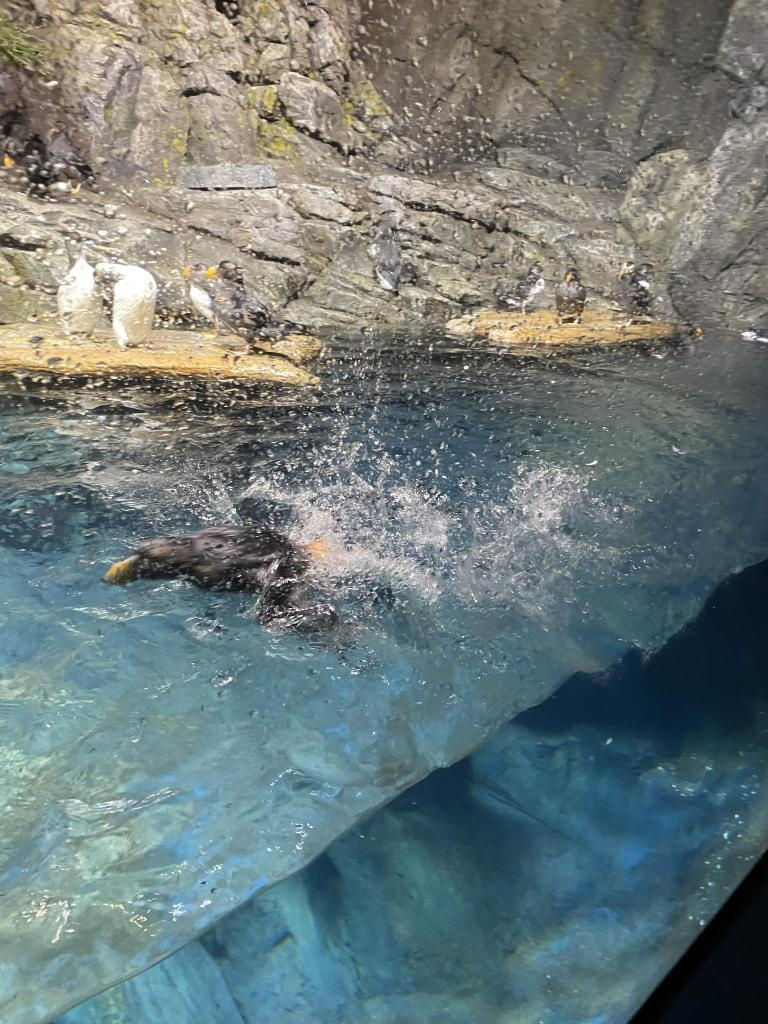puffin: (102, 517, 344, 643), (206, 256, 310, 356), (96, 260, 158, 348), (58, 254, 106, 340), (615, 258, 663, 328), (48, 123, 98, 189), (496, 260, 550, 316), (367, 226, 411, 294), (6, 137, 54, 199), (634, 322, 702, 360), (182, 262, 216, 334), (552, 266, 583, 326)
